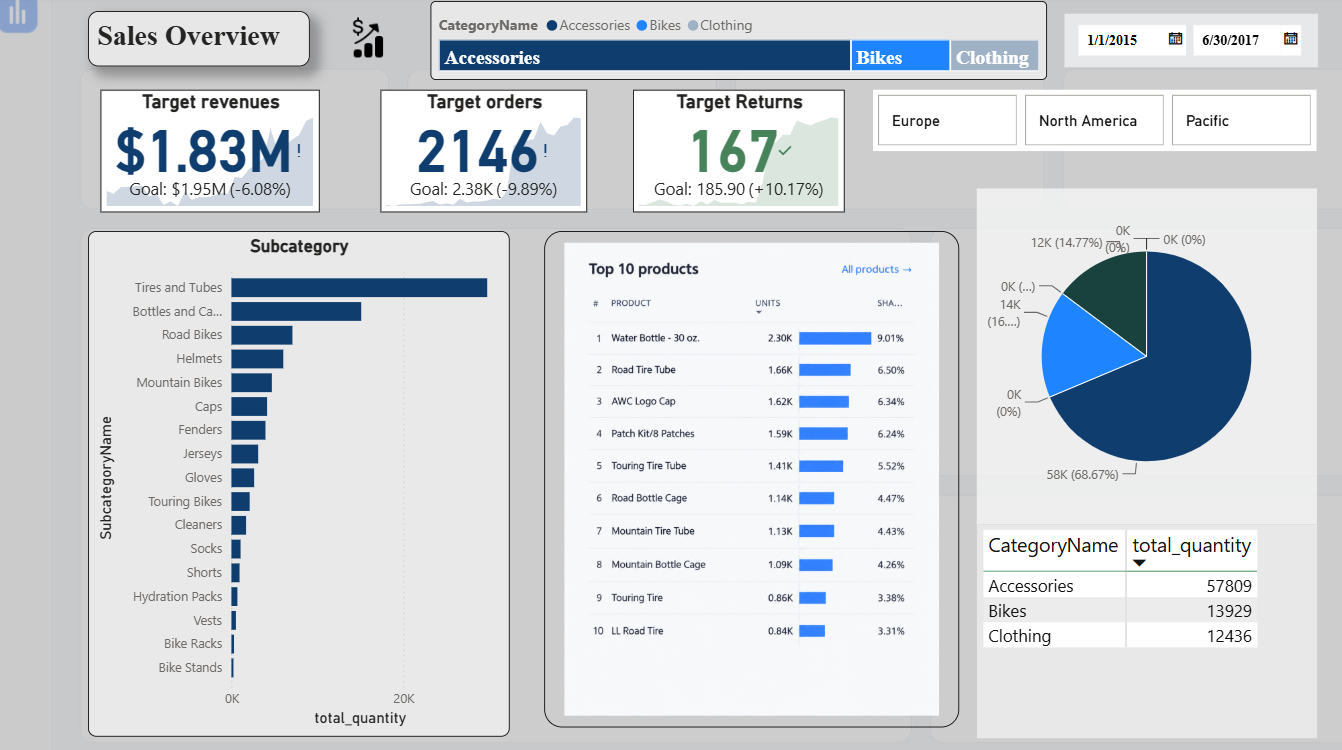

Layout of this report page (visuals, bound fields, positions):
{"tool":"powerbi","page":{"name":"Over view","canvas":[1280,720],"ordinal":0},"visuals":[{"type":"treemap","title":"Category","fields":{"Group":["Categori.CategoryName"],"Values":["Sales.total_quantity"]},"box":[11,10.8,280,194],"z":0},{"type":"clusteredBarChart","title":"Subcategory","fields":{"Y":["Sales.total_quantity"],"Category":["Subcategory.SubcategoryName"]},"box":[11.9,219,277.4,481],"z":1000},{"type":"pivotTable","fields":{"Rows":["Products.ProductName"],"Values":["Sales.total_quantity","Sales.% all_orders"]},"box":[310.7,109.5,384.5,591.7],"z":2000},{"type":"kpi","title":"Target revenues ","fields":{"Indicator":["Sales.total_revenues"],"Goal":["Sales.target_revenues"],"TrendLine":["Calendar.Start of Month"]},"box":[708.3,29.8,286.9,271.4],"z":3000},{"type":"kpi","title":"Target orders","fields":{"Goal":["Sales.order_target"],"Indicator":["Sales.total_orders"],"TrendLine":["Calendar.Start of Month"]},"box":[1008.3,29.8,271.4,131],"z":4000},{"type":"kpi","title":"Target Returns ","fields":{"Goal":["Returns.target_return"],"Indicator":["Returns.Total Returns"],"TrendLine":["Calendar.Start of Month"]},"box":[1008.3,170.2,271.4,131],"z":5000},{"type":"slicer","fields":{"Values":["Calendar.Date"]},"box":[310.1,10.8,384.7,87.8],"z":6000},{"type":"map","fields":{"Category":["Territories.Continent"]},"box":[708.3,438.1,548.8,261.9],"z":7000},{"type":"slicer","fields":{"Values":["Territories.Continent"]},"box":[708,311.3,572.2,109.4],"z":8000}]}

Visuals, with their boxes in screenshot pixels (x1, y1, x2, y2), scaled from the page's 1280x720 canvas onto the 1342x750 screenshot:
"Category" treemap: <region>12, 11, 305, 213</region>
"Subcategory" clusteredBarChart: <region>12, 228, 303, 729</region>
pivotTable - Products.ProductName x Sales.total_quantity: <region>326, 114, 729, 730</region>
"Target revenues " kpi: <region>743, 31, 1043, 314</region>
"Target orders" kpi: <region>1057, 31, 1341, 168</region>
"Target Returns " kpi: <region>1057, 177, 1341, 314</region>
slicer - Calendar.Date: <region>325, 11, 728, 103</region>
map - Territories.Continent: <region>743, 456, 1318, 729</region>
slicer - Territories.Continent: <region>742, 324, 1341, 438</region>
